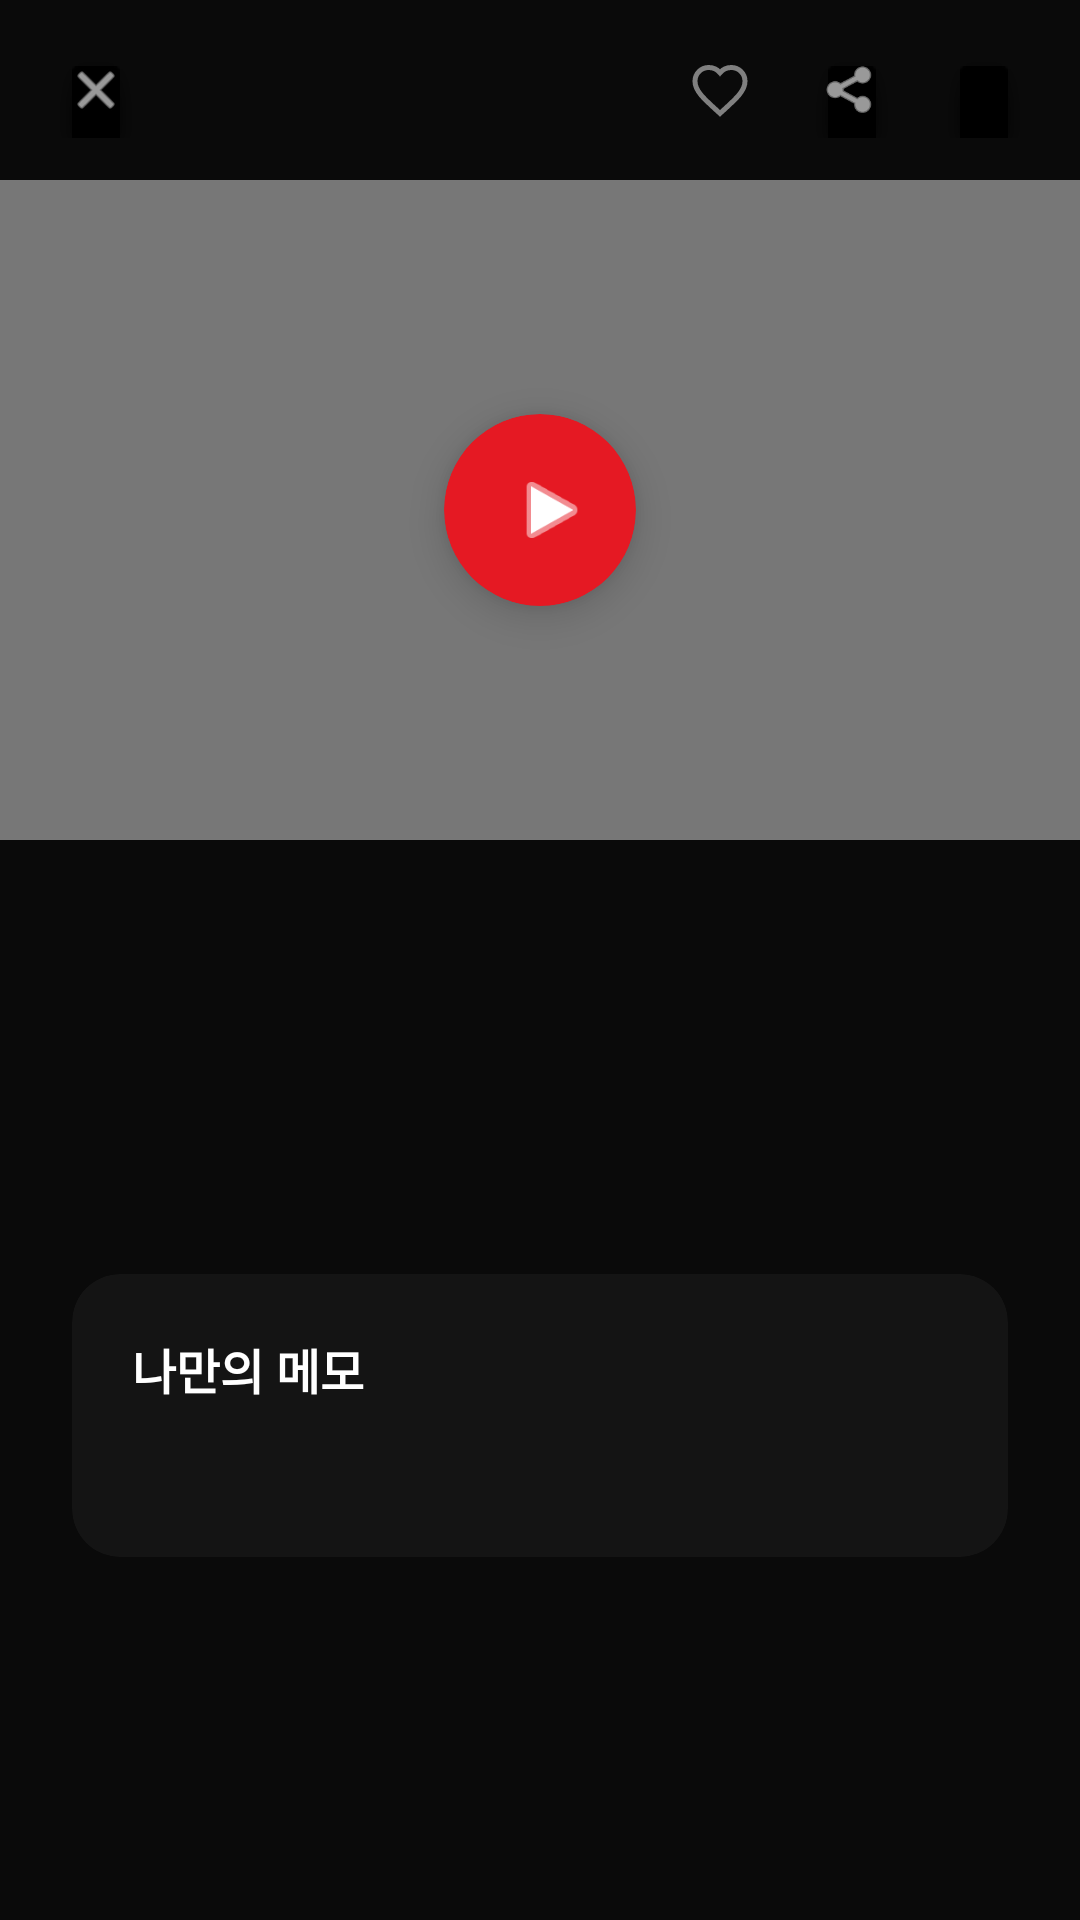

Screen size 1080px×1920px. Icon name, then its box in pixels as (x1, y1, x2, y2):
close clear cancel: (72, 66, 120, 138)
heart empty: (692, 65, 748, 117)
play: (462, 414, 636, 606)
share: (826, 66, 876, 138)
